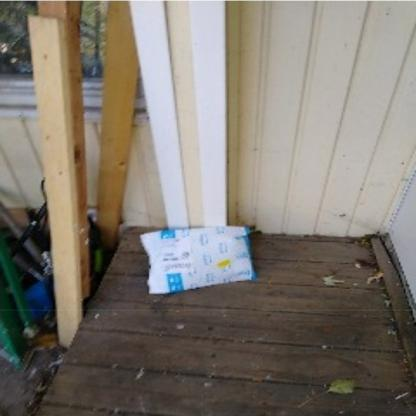plastic_bag: (138, 222, 259, 298)
